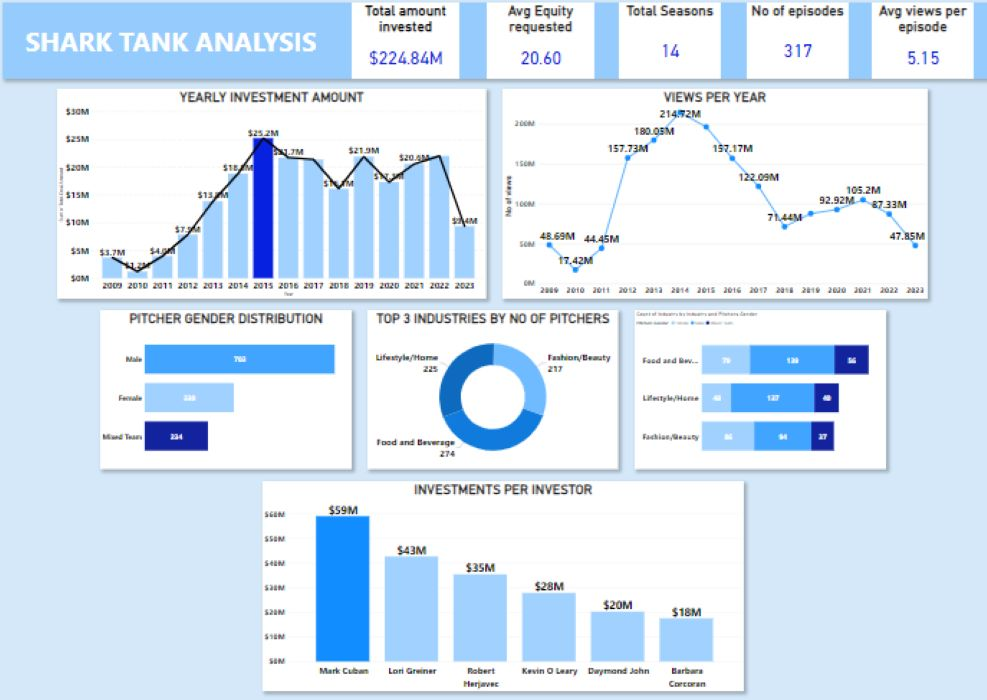

Layout of this report page (visuals, bound fields, positions):
{"tool":"powerbi","page":{"name":"Page 1","canvas":[3100,2250],"ordinal":0},"visuals":[{"type":"shape","box":[31,31,3034,234.7],"z":0},{"type":"card","title":"Avg views per episode","fields":{"Values":["Episode_dimension_table.US Viewership"]},"box":[2710.6,31,314.5,234.7],"z":1000},{"type":"card","title":"Total Seasons","fields":{"Values":["Episode_dimension_table.Season Number"]},"box":[1931.1,31,314.5,234.7],"z":2000},{"type":"lineChart","title":"VIEWS PER YEAR","fields":{"Category":["Episode_dimension_table.Original Air Date.Variation.Date Hierarchy.Year","Episode_dimension_table.Original Air Date.Variation.Date Hierarchy.Quarter","Episode_dimension_table.Original Air Date.Variation.Date Hierarchy.Month","Episode_dimension_table.Original Air Date.Variation.Date Hierarchy.Day"],"Y":["Episode_dimension_table.Us Viewership full fig"]},"box":[1572.6,294.4,1419.4,649.2],"z":3000},{"type":"clusteredBarChart","title":"PITCHER GENDER DISTRIBUTION","fields":{"Y":["Pitcher_dimension_table.Pitchers Gender"],"Category":["Pitcher_dimension_table.Pitchers Gender"]},"box":[193.5,983.9,871,536.3],"z":4000},{"type":"barChart","title":"GENDER SPLIT OF TOP 3 INDUSTRIES","fields":{"Category":["Pitcher_dimension_table.Industry"],"Series":["Pitcher_dimension_table.Pitchers Gender"],"Y":["Pitcher_dimension_table.Industry"]},"box":[2016.1,983.9,899.2,536.3],"z":5000},{"type":"donutChart","title":"TOP 3 INDUSTRIES BY NO OF PITCHERS","fields":{"Category":["Pitcher_dimension_table.Industry"],"Y":["Pitcher_dimension_table.Industry"]},"box":[1108.9,983.9,862.9,536.3],"z":6000},{"type":"lineClusteredColumnComboChart","title":"YEARLY INVESTMENT AMOUNT","fields":{"Category":["FilteredInvestments.Original Air Date.Variation.Date Hierarchy.Year","FilteredInvestments.Original Air Date.Variation.Date Hierarchy.Quarter","FilteredInvestments.Original Air Date.Variation.Date Hierarchy.Month","FilteredInvestments.Original Air Date.Variation.Date Hierarchy.Day"],"Y":["FilteredInvestments.Total Deal Amount"],"Y2":["FilteredInvestments.Total Deal Amount"]},"box":[100.8,294.4,1419.4,649.2],"z":7000},{"type":"clusteredColumnChart","title":"INVESTMENTED AMOUNT PER INVESTOR","fields":{"Y":["Investor_dimension_table.Amount invested"],"Category":["Investor_dimension_table.Investor"]},"box":[725.8,1556.5,1645.2,649.2],"z":8000},{"type":"card","title":"Avg Equity requested","fields":{"Values":["FilteredInvestments.Equity Per Shark"]},"box":[1523.6,31,332.2,234.7],"z":9000},{"type":"card","title":"Total amount invested","fields":{"Values":["FilteredInvestments.Total Deal Amount"]},"box":[1107.3,31,332.2,234.7],"z":10000},{"type":"card","title":"No of episodes","fields":{"Values":["Episode_dimension_table.Episode Name"]},"box":[2325.3,31,314.5,234.7],"z":10001}]}

Visuals, with their boxes in screenshot pixels (x1, y1, x2, y2), scaled from the page's 3100x2250 canvas onto the 987x700 screenshot:
shape: x1=10 y1=10 x2=976 y2=83
"Avg views per episode" card: x1=863 y1=10 x2=963 y2=83
"Total Seasons" card: x1=615 y1=10 x2=715 y2=83
"VIEWS PER YEAR" lineChart: x1=501 y1=92 x2=953 y2=294
"PITCHER GENDER DISTRIBUTION" clusteredBarChart: x1=62 y1=306 x2=339 y2=473
"GENDER SPLIT OF TOP 3 INDUSTRIES" barChart: x1=642 y1=306 x2=928 y2=473
"TOP 3 INDUSTRIES BY NO OF PITCHERS" donutChart: x1=353 y1=306 x2=628 y2=473
"YEARLY INVESTMENT AMOUNT" lineClusteredColumnComboChart: x1=32 y1=92 x2=484 y2=294
"INVESTMENTED AMOUNT PER INVESTOR" clusteredColumnChart: x1=231 y1=484 x2=755 y2=686
"Avg Equity requested" card: x1=485 y1=10 x2=591 y2=83
"Total amount invested" card: x1=353 y1=10 x2=458 y2=83
"No of episodes" card: x1=740 y1=10 x2=840 y2=83
